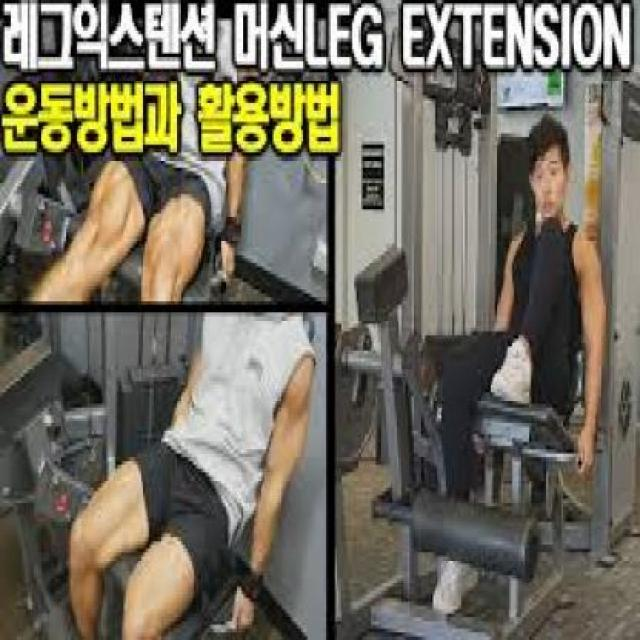leg extension: (364, 111, 614, 640)
